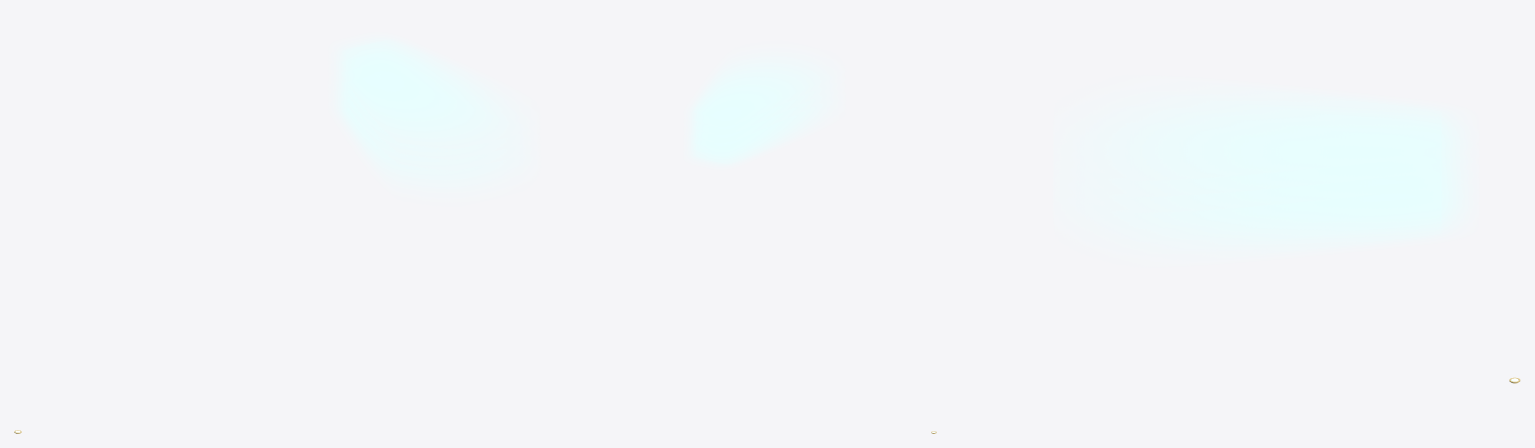
Rendered from holographStand.glb.
3 renders of one model, left to right at view 1: azimuth 30°, elevation 25°; view 2: azimuth 150°, elevation 25°; view 3: azimuth 270°, elevation 25°, orthographic. The views are drawn at different scales.
Visible parts, largest first — view 1: Object_3; view 2: Object_3; view 3: Object_3.
Boxes of the visible parts, bbox=[...] form: Object_3: bbox=[333, 36, 532, 193]; Object_3: bbox=[687, 51, 838, 166]; Object_3: bbox=[1055, 84, 1474, 258].
Size of what is drawn, in the model's own units: 38.12 by 29.05 by 29.94.
4 materials, 3 textured.
